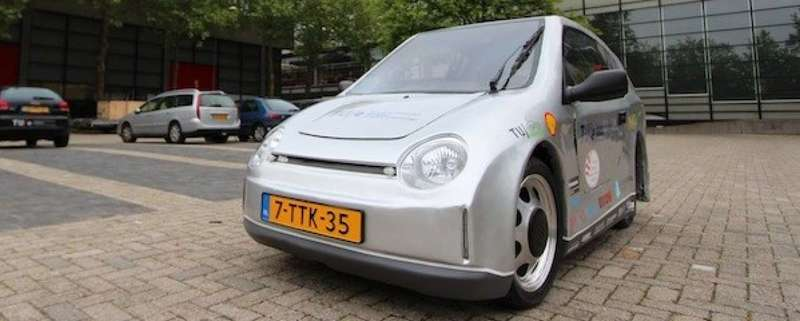kenteken: (257, 195, 366, 247)
